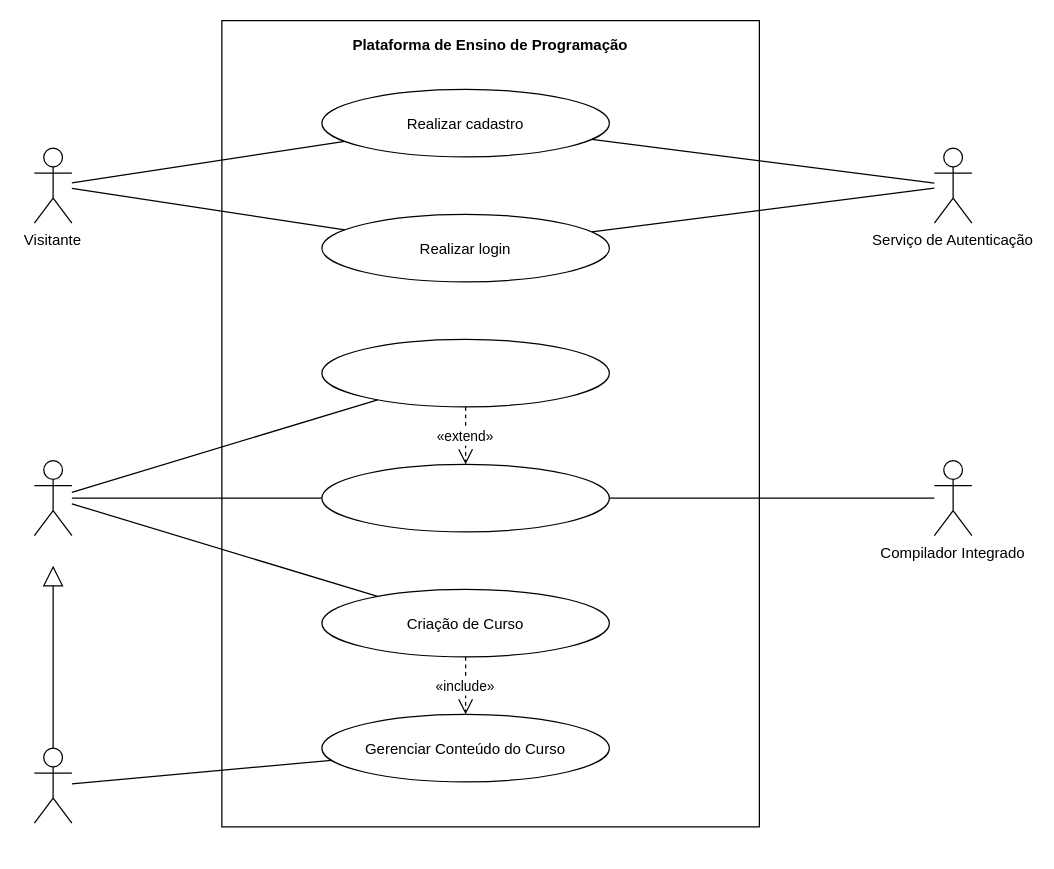
Some shapes in this 1054 by 869 pixel diagram are drawn without their labels. Each missing label, with the centre of its shape:
Aluno: pixel 52 497
Emitir Certificado de Conclusão: pixel 465 372
Professor: pixel 52 785
Realizar Aula Interativa: pixel 465 497
